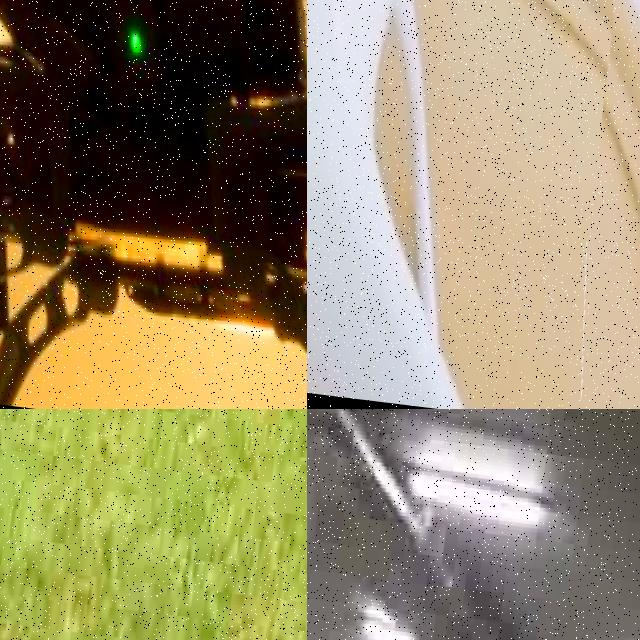drone: (307, 0, 640, 409), (0, 0, 307, 409)
